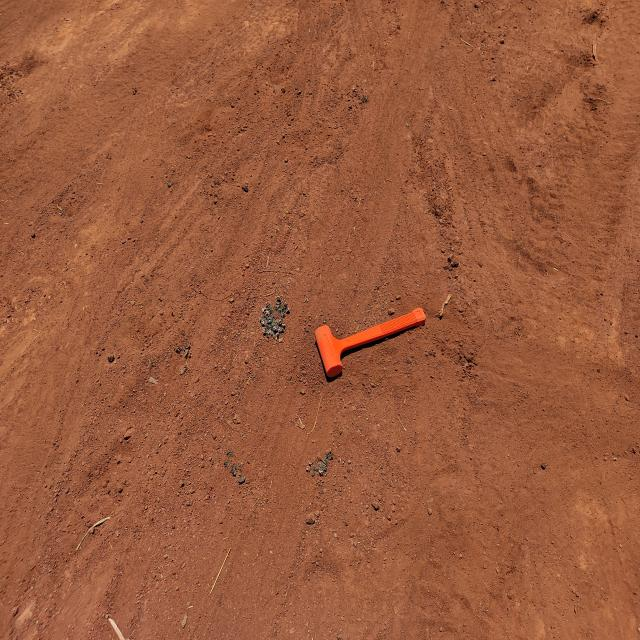Orange_hammer: (314, 306, 426, 380)
